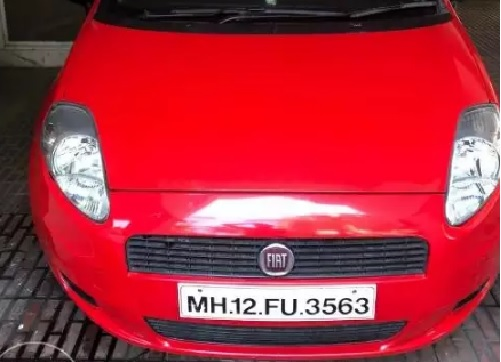licenseplate: (175, 280, 379, 323)
